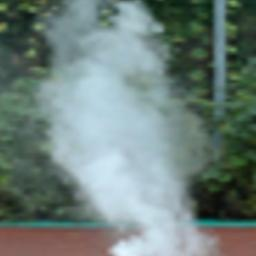smoke: (35, 0, 220, 255)
